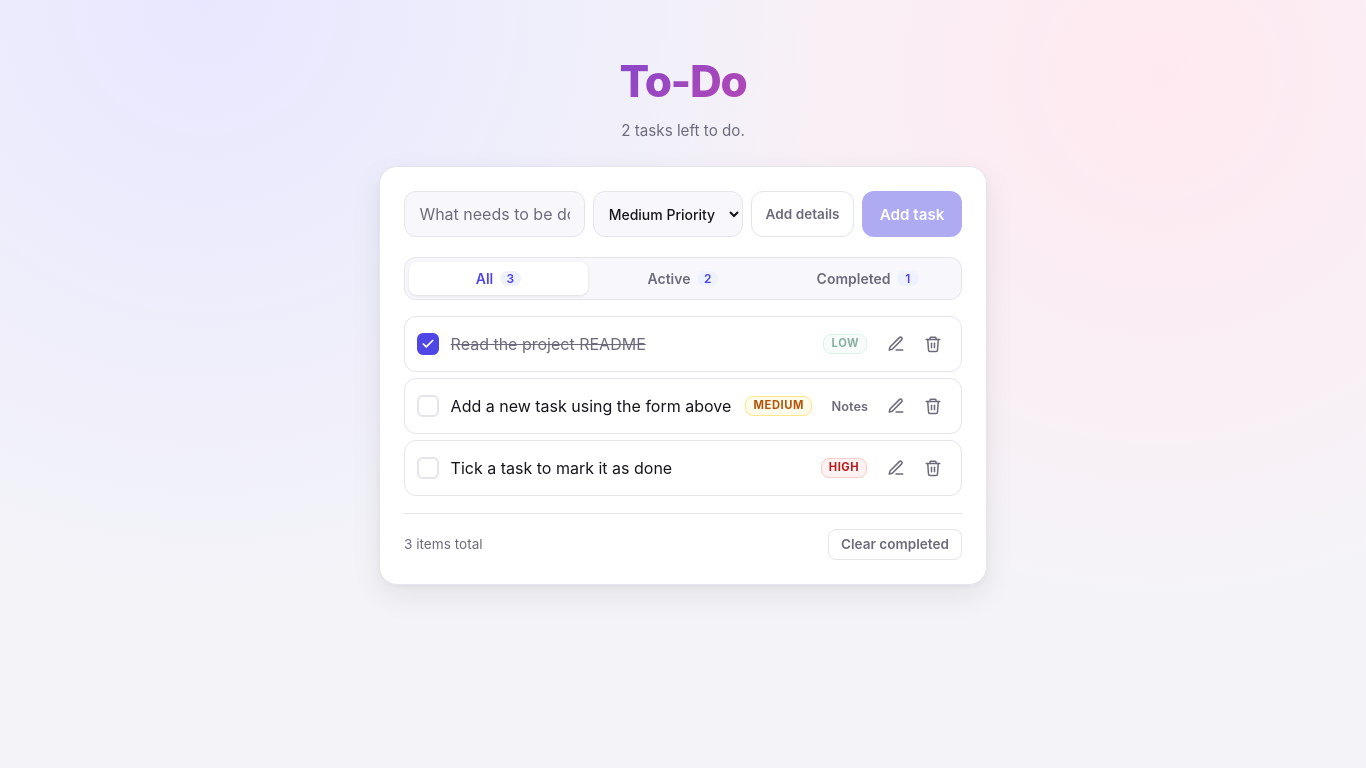
To-do app › edits a task title and priority
Click the button named "Edit task: Tick a task to mark it as done": (896,468) [879, 452, 912, 484]
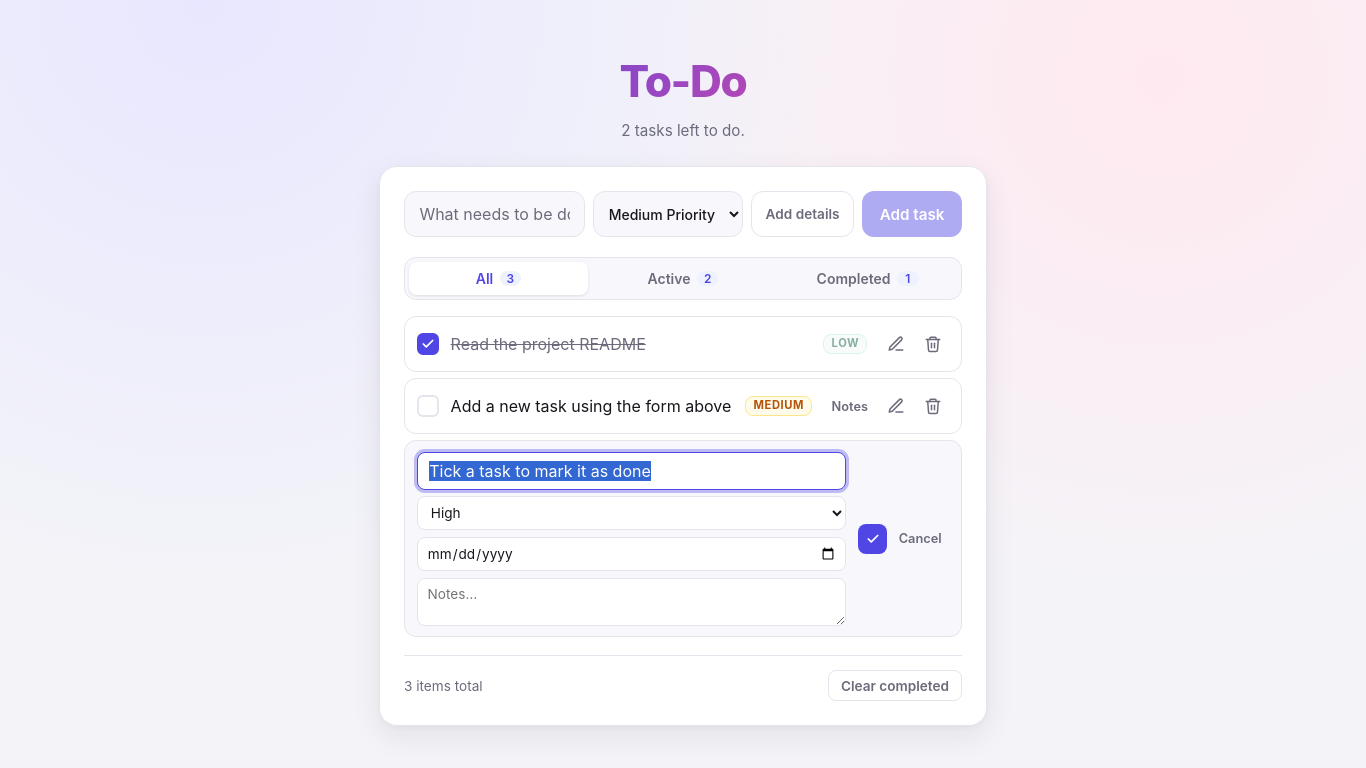
Replace the text in the field named "Edit task: Tick a task to mark it as done" with "Tick a task to mark it as finished": (632,471) [417, 452, 846, 490]
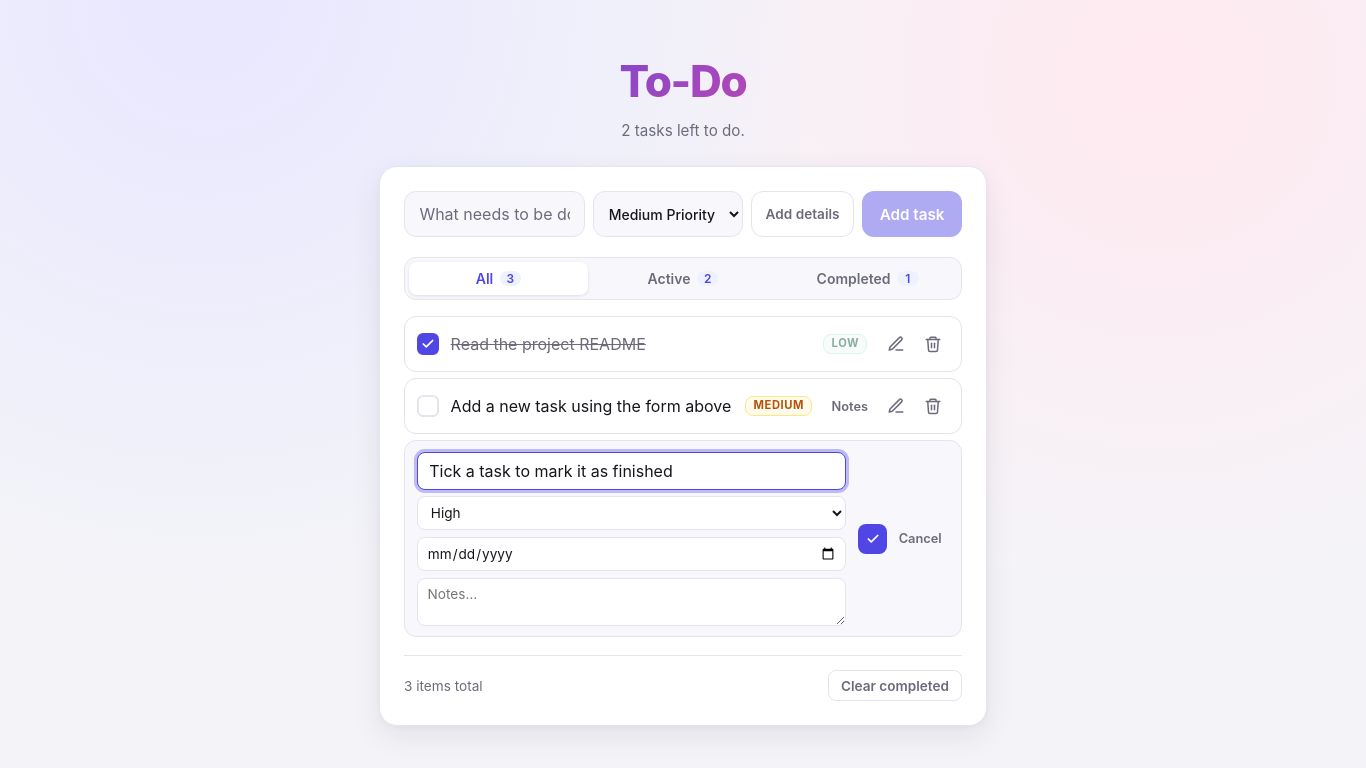
Select "Low" in the dropdown named "Change priority": (632,513) [417, 496, 846, 530]
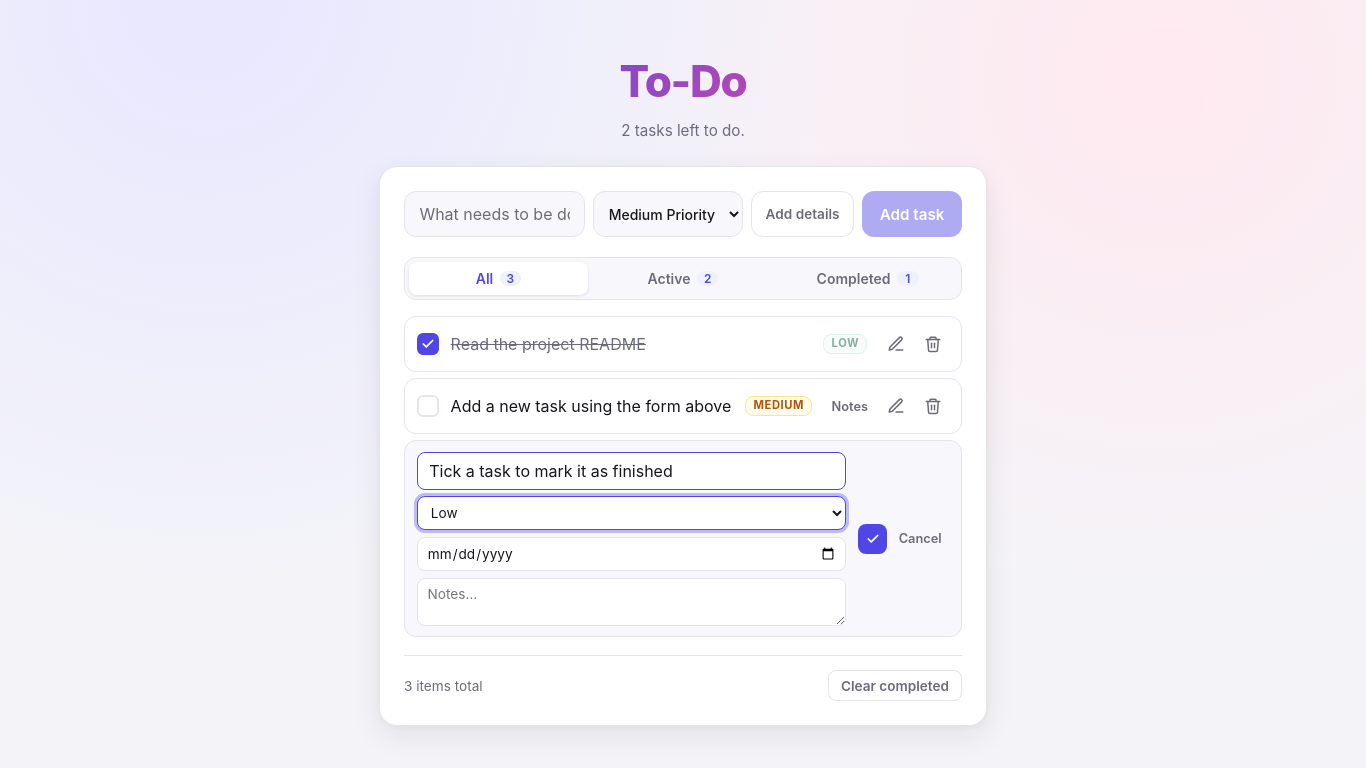
Click the button named "Save task": (873,539) [858, 524, 887, 554]
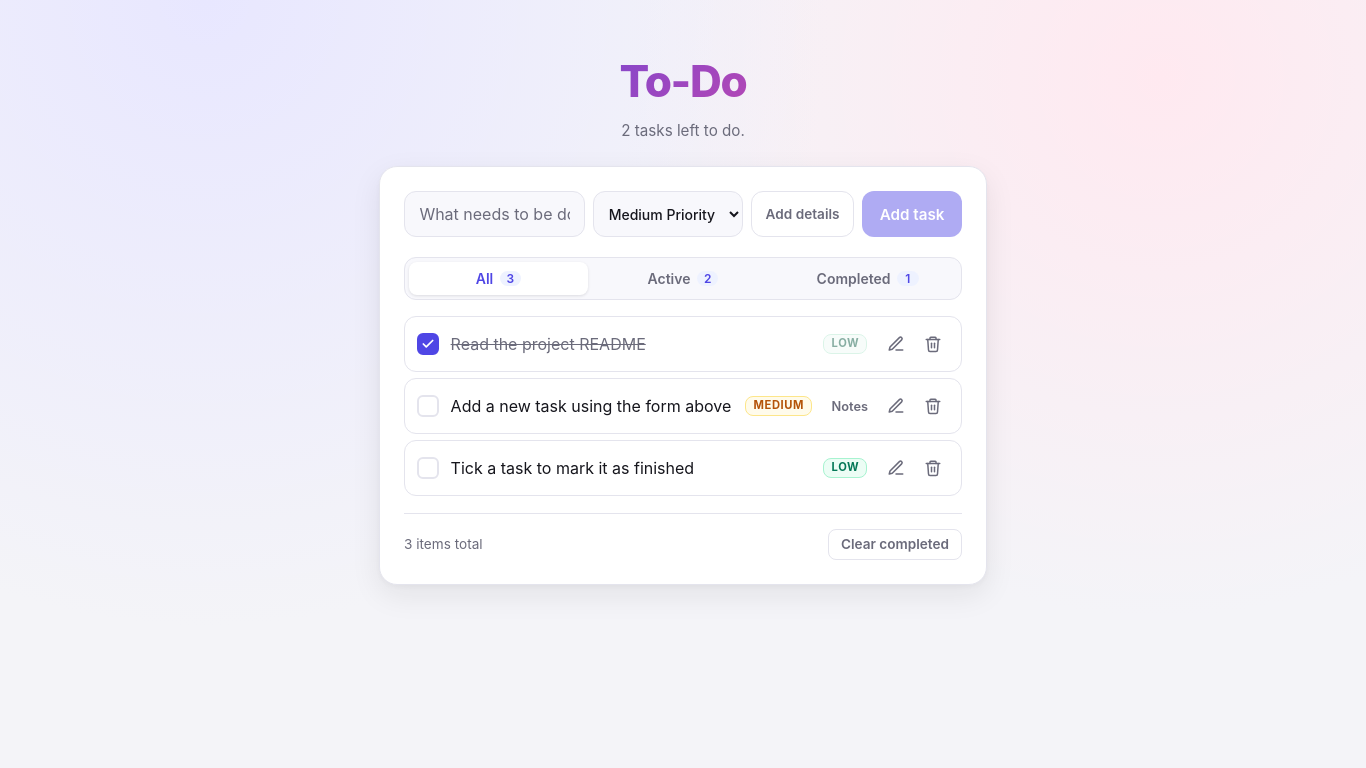
Expected: the text "Tick a task to mark it as done" is not shown
Result: the text "Tick a task to mark it as finished" is shown at [451, 458, 694, 478]
Result: the text "low" next to "Tick a task to mark it as finished" is shown at [832, 460, 859, 474]
